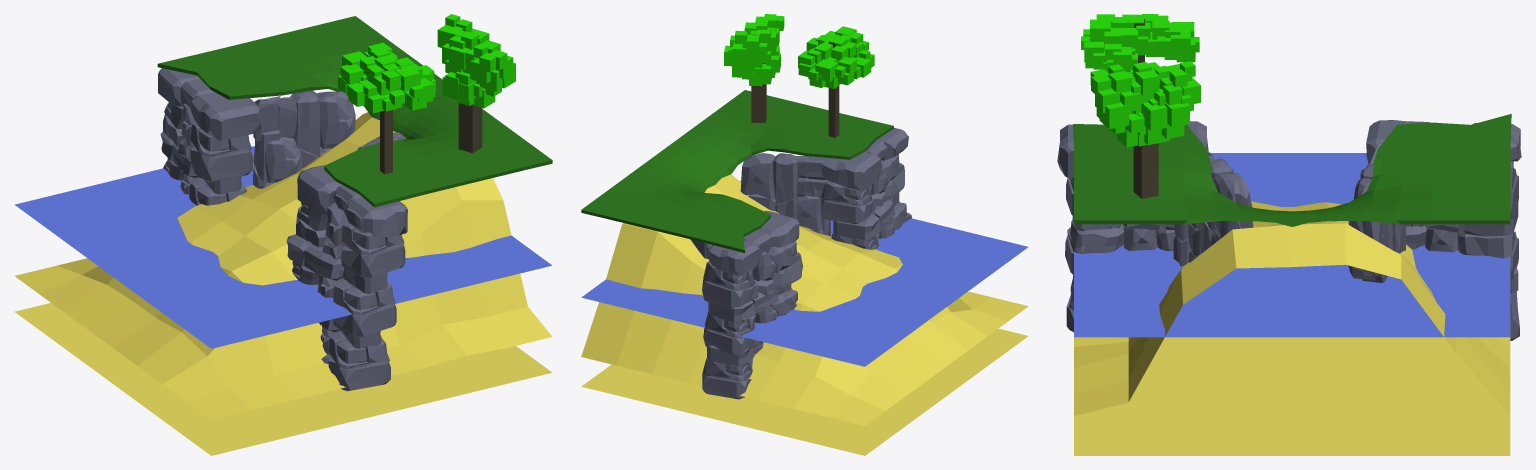
The model's file is 43__tile.fbx.
3 renders of one model, left to right at view 1: azimuth 30°, elevation 25°; view 2: azimuth 150°, elevation 25°; view 3: azimuth 270°, elevation 25°, orthographic. The views are drawn at different scales.
Parts seen in each view (by area): view 1: 43__tile; view 2: 43__tile; view 3: 43__tile.
Boxes of the visible parts, bbox=[...] form: 43__tile: bbox=[14, 14, 552, 455]; 43__tile: bbox=[581, 14, 1028, 455]; 43__tile: bbox=[1057, 14, 1521, 455].
Size of the model in its own units: 200 by 185 by 213.
